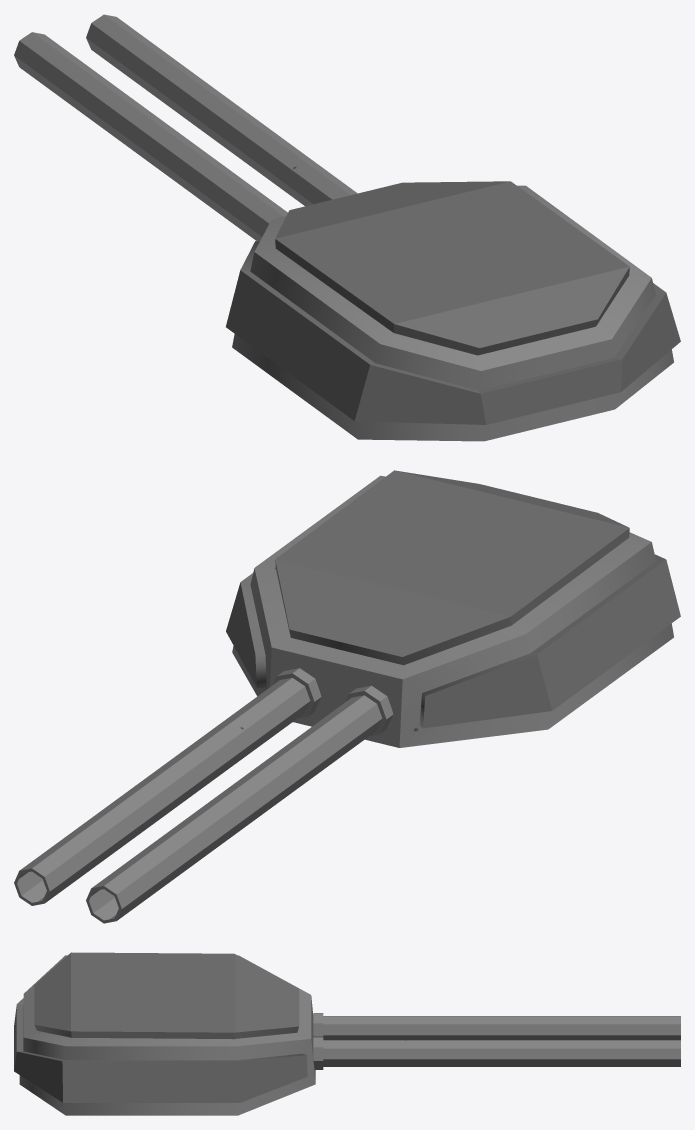
File: EnemyBruteTurret.fbx
The picture shows the model from 3 angles, top to bottom: view 1: azimuth 30°, elevation 25°; view 2: azimuth 150°, elevation 25°; view 3: azimuth 270°, elevation 25°; orthographic projection. The views are drawn at different scales.
Parts seen in each view (by area): view 1: Cube.001; view 2: Cube.001; view 3: Cube.001.
Part boxes in pixels (x1,y1,x2,y2): Cube.001: [14, 14, 680, 441]; Cube.001: [14, 470, 680, 923]; Cube.001: [14, 952, 680, 1115].
Size of the model in its own units: 181 by 54.57 by 468.
1 material, 1 textured.
